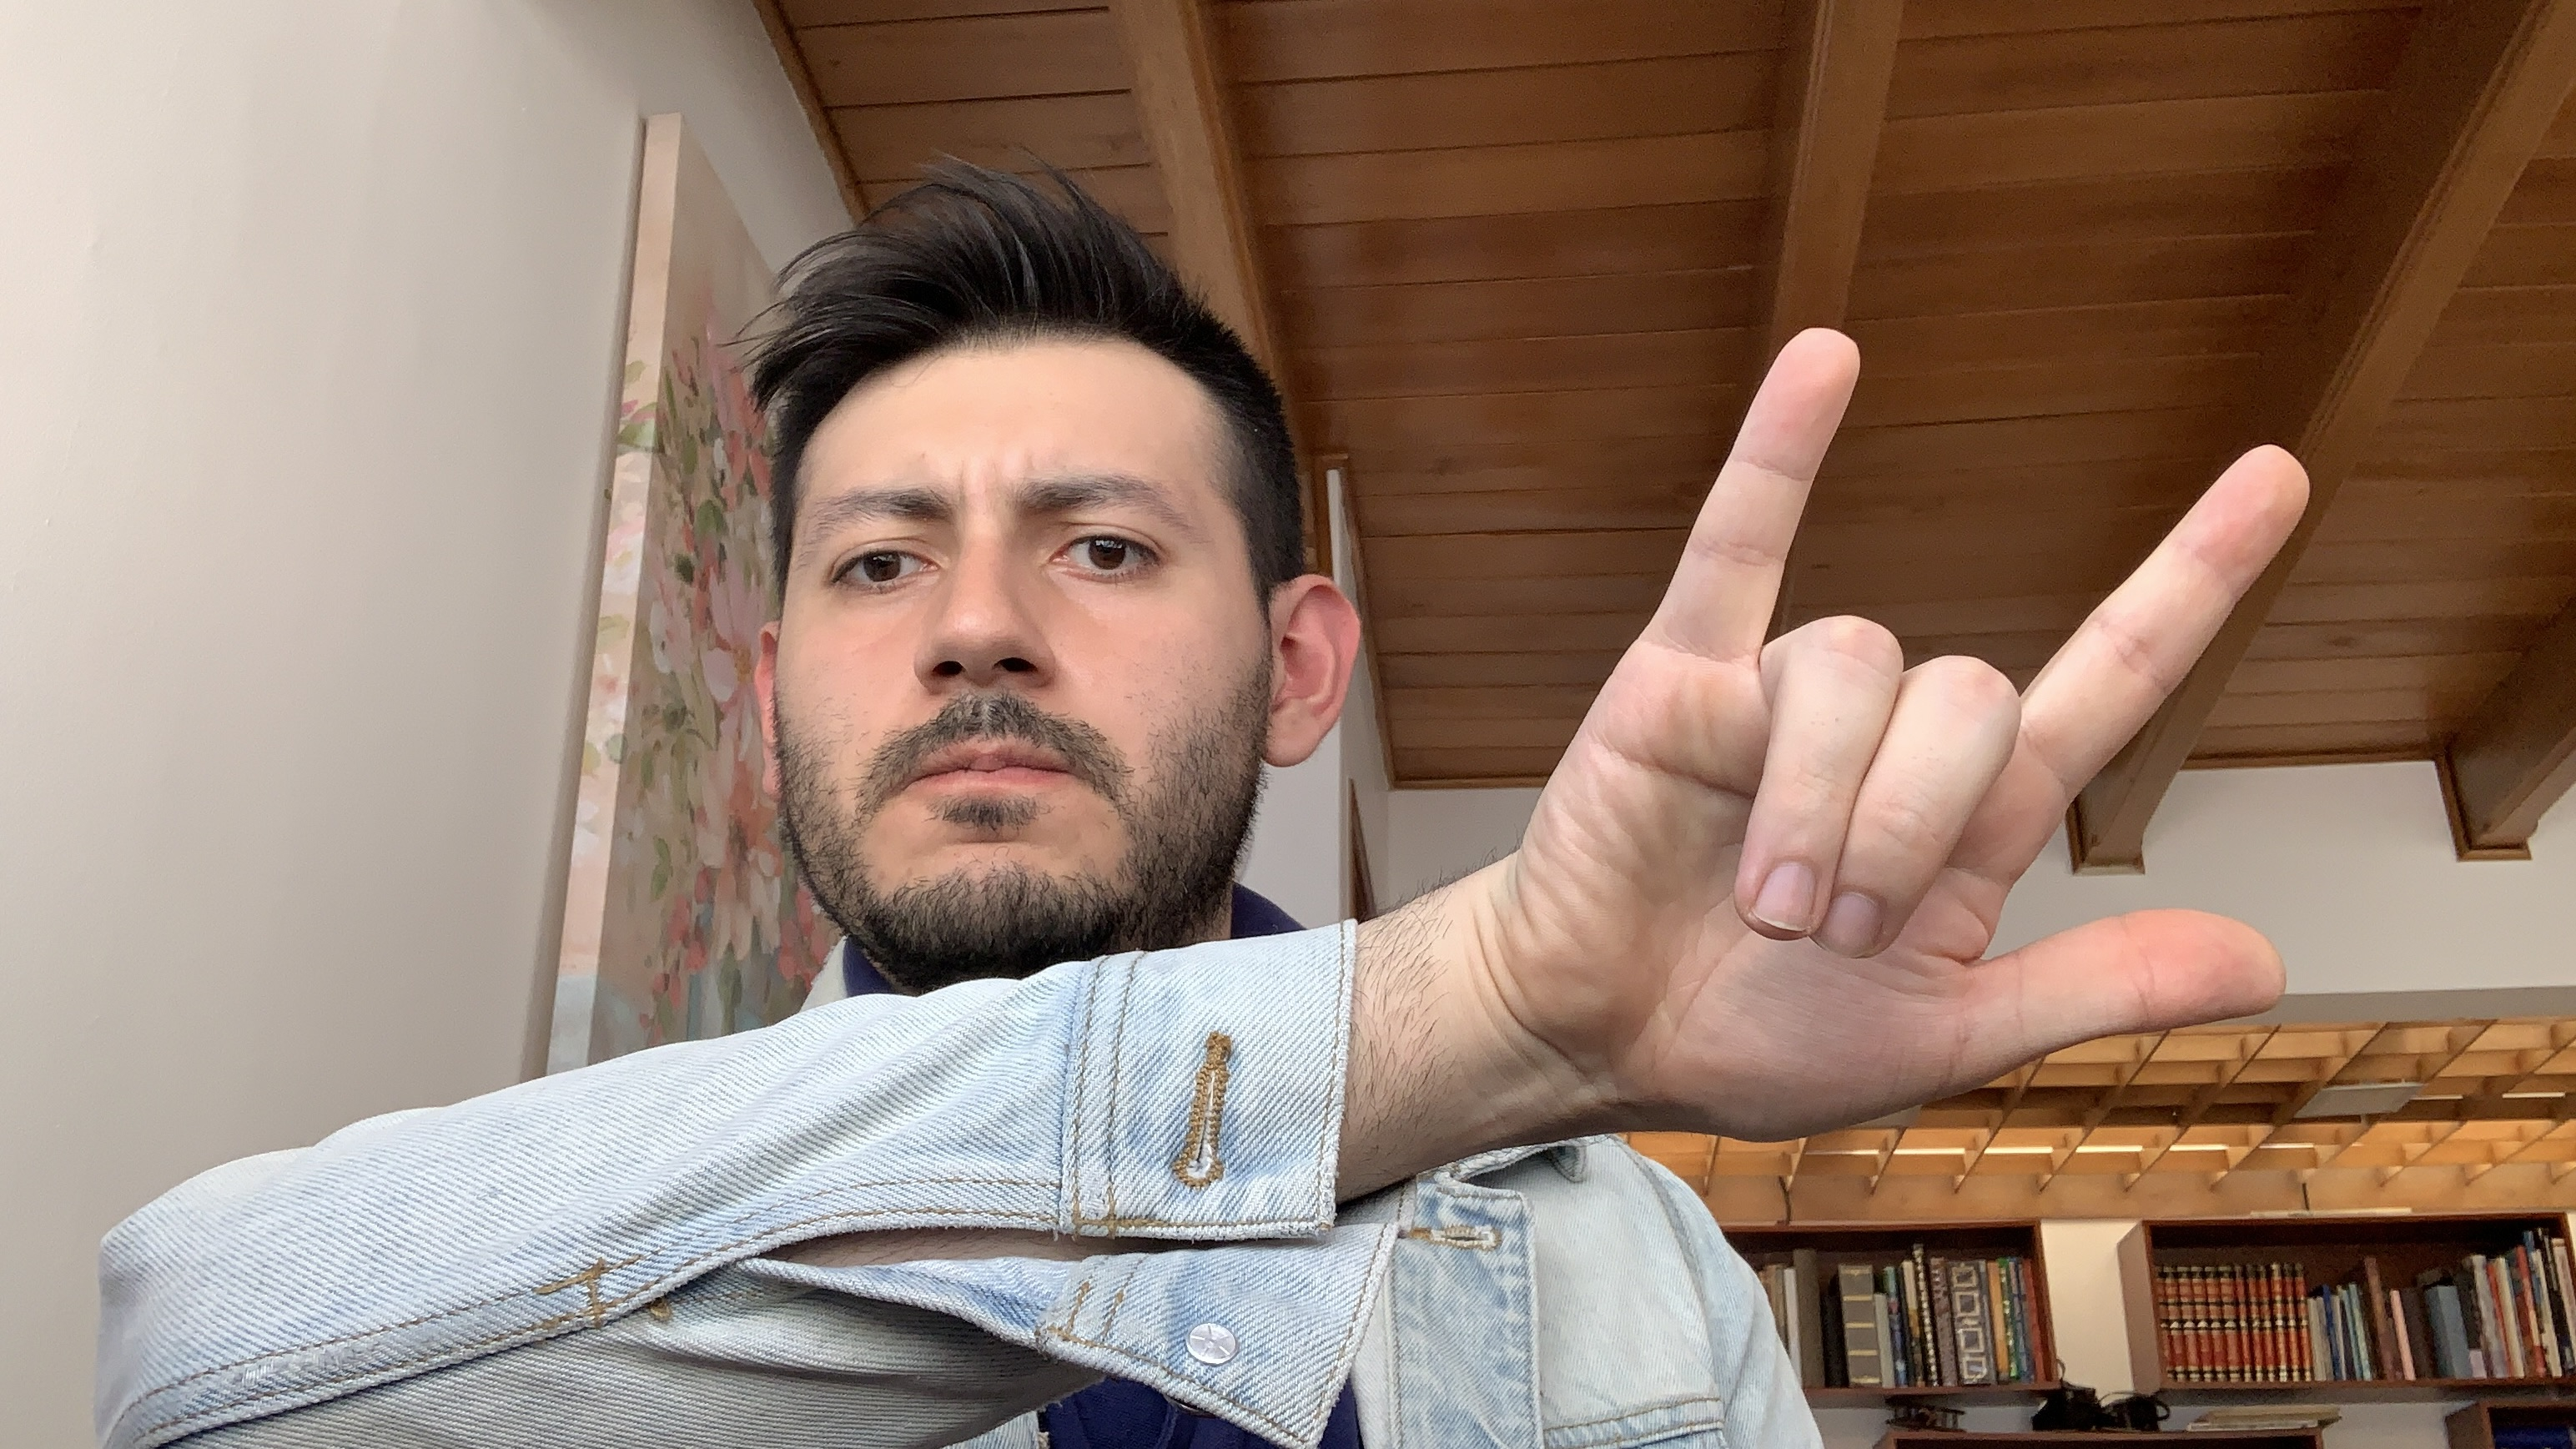I Love You: (1493, 311, 2325, 1127)
